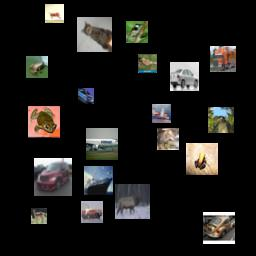airplane: (86, 128, 118, 160), (45, 4, 64, 23), (152, 104, 171, 123)
automobile: (34, 158, 72, 196), (203, 212, 235, 244), (170, 62, 199, 91), (78, 88, 94, 104)
bird: (208, 107, 234, 133), (126, 21, 148, 43), (138, 54, 157, 73)
cat: (77, 17, 112, 52), (157, 128, 179, 150)
deer: (115, 184, 150, 219), (31, 208, 47, 224)
frog: (186, 143, 218, 175), (28, 106, 60, 138), (26, 56, 48, 78)
ship: (84, 166, 113, 195), (81, 201, 103, 223)
truck: (210, 46, 236, 72)
